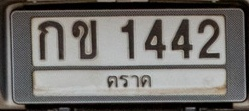txt01: (36, 20, 66, 61)
txt02: (71, 19, 98, 61)
